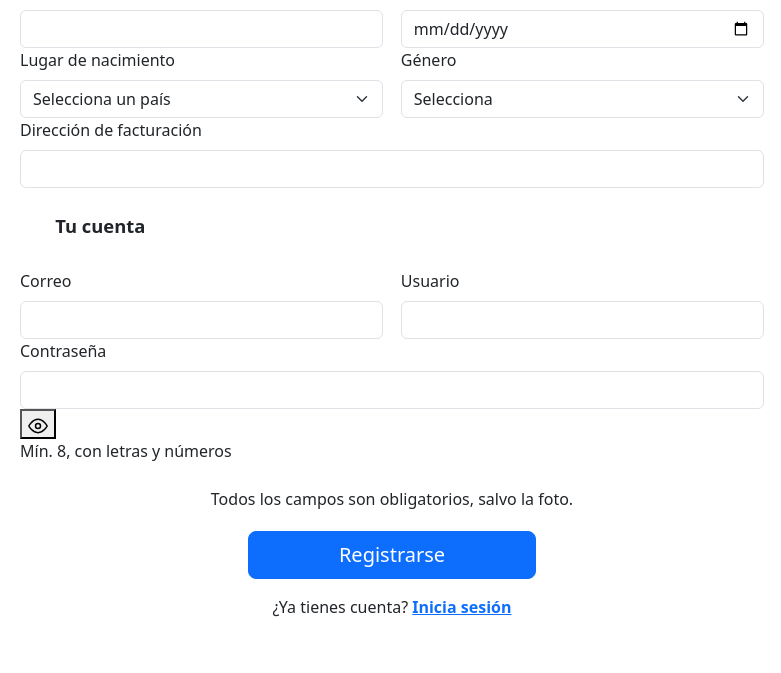
Test case: RegistroPage (HU4) › el error de un campo desaparece al corregirlo
(page scrolled)
In the field labelled "Correo": [202, 320] box [20,301,383,339], type "mal"
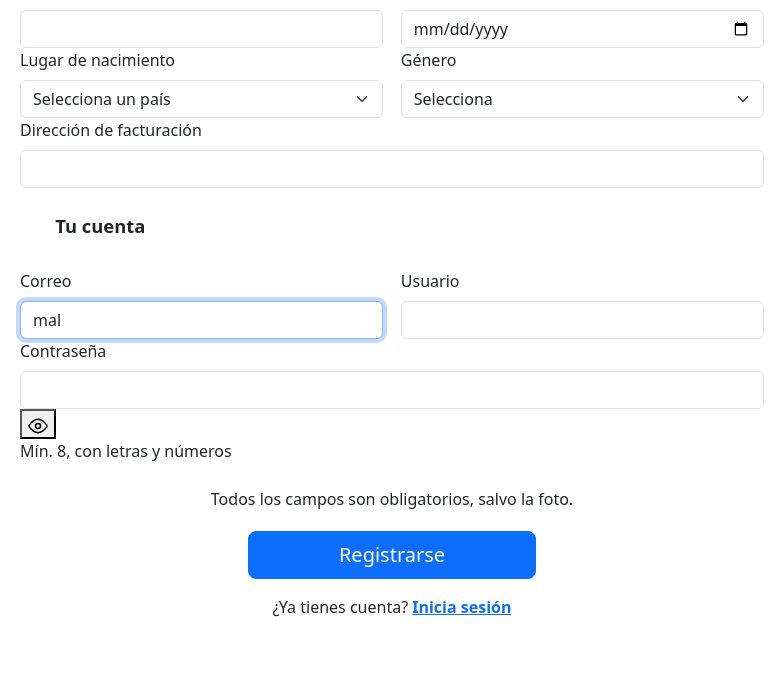
Click the button "Registrarse": [392, 555] box [248,531,536,579]
(page scrolled)
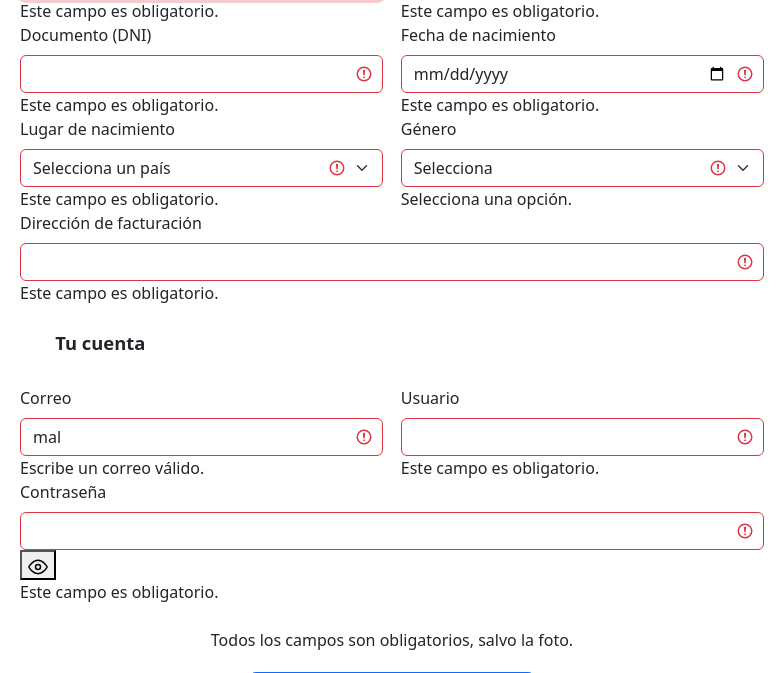
Check: the text "Escribe un correo válido." is shown, box [20,457,204,479]
In the field labelled "Correo": [202, 437] box [20,418,383,456], type "@correo.com"
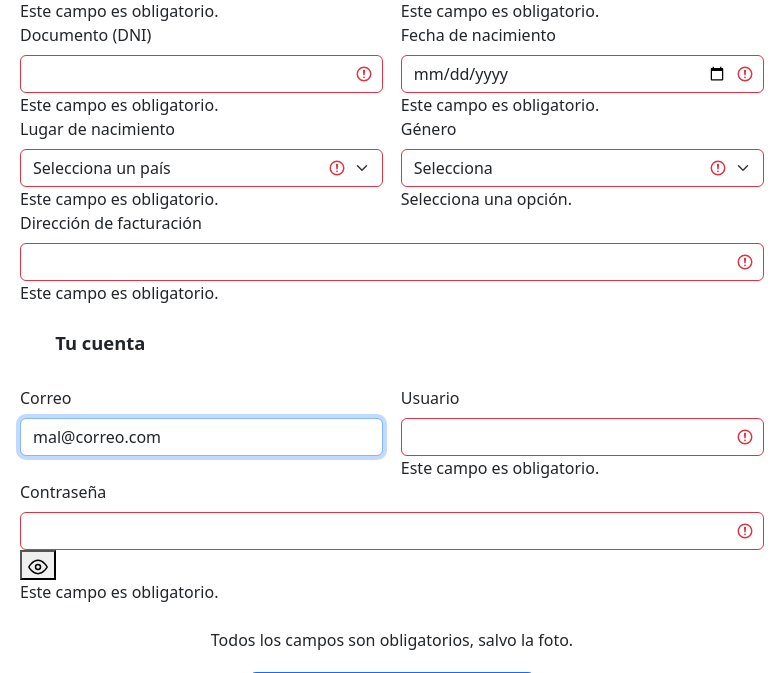
Check: the text "Escribe un correo válido." is gone
